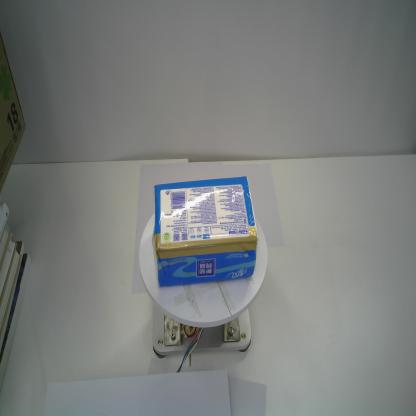Tissue: (154, 176, 259, 288)
